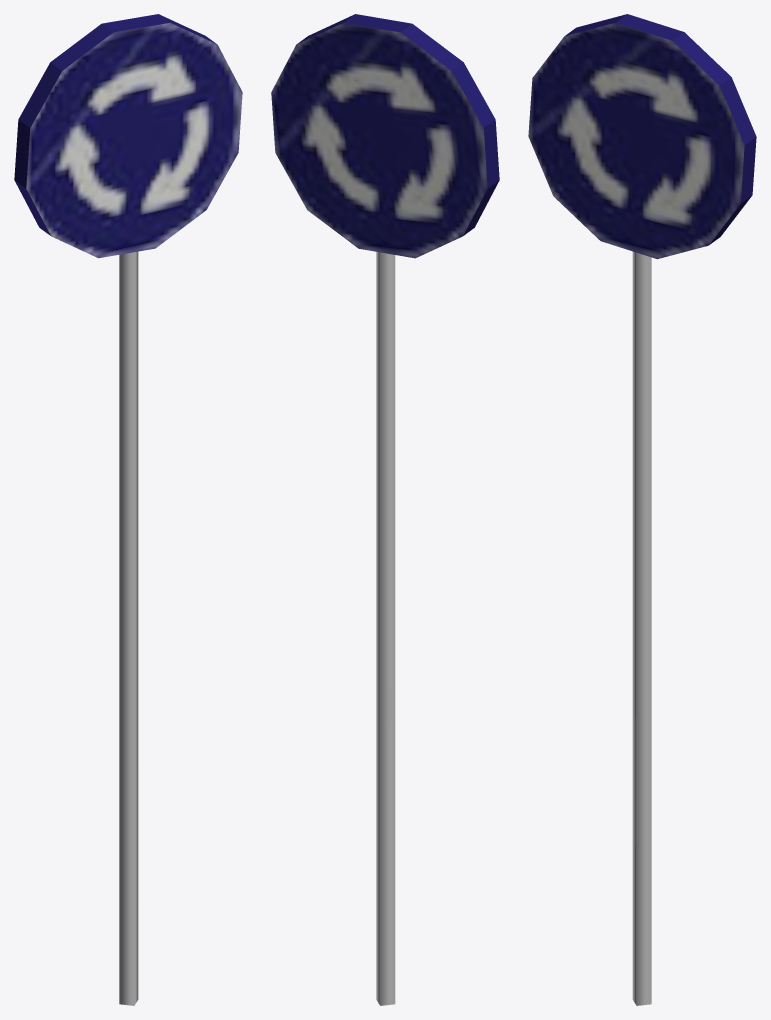
The model's file is Roundebout sign.fbx.
3 views of the same model, side by side, from view 1: azimuth 30°, elevation 25°; view 2: azimuth 150°, elevation 25°; view 3: azimuth 330°, elevation 25° (orthographic).
Parts seen in each view (by area): view 1: Roundebout sign; view 2: Roundebout sign; view 3: Roundebout sign.
Boxes of the visible parts, x1=… form: Roundebout sign: x1=14, y1=14, x2=242, y2=1005; Roundebout sign: x1=271, y1=14, x2=499, y2=1005; Roundebout sign: x1=528, y1=14, x2=756, y2=1005.
Bounding box in the file's own units: 7.38 × 31.89 × 0.7061.
